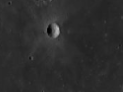crater: (38, 7, 89, 62)
